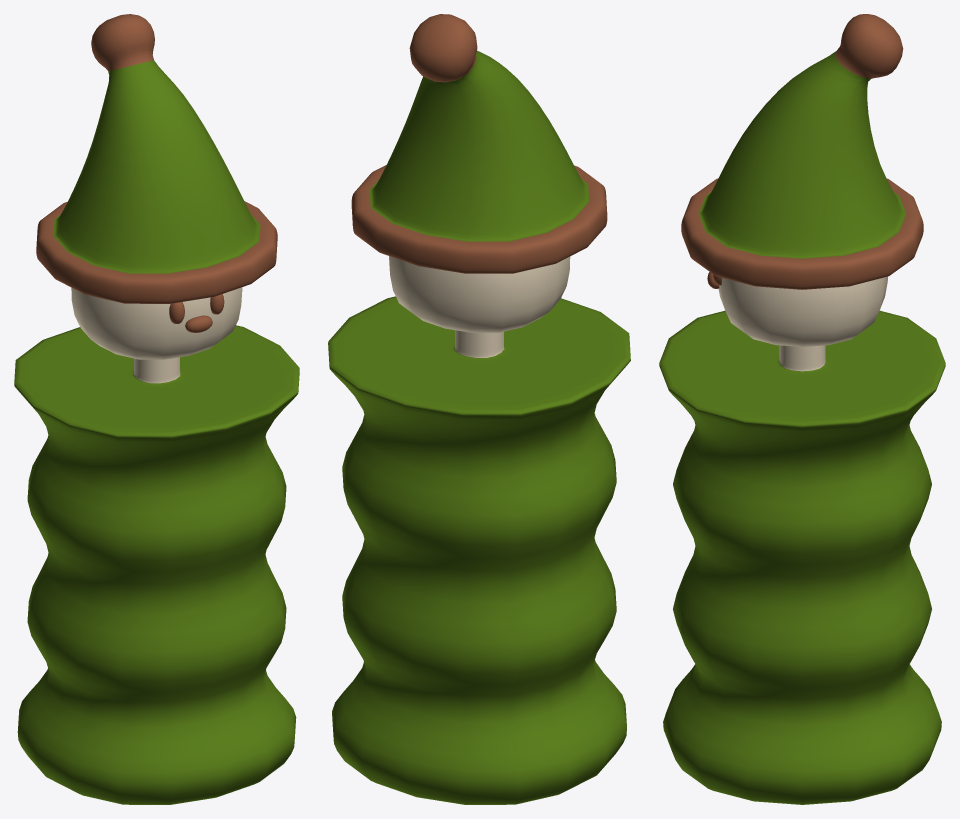
The model's file is JIB Herb.fbx.
3 views of the same model, side by side, from view 1: azimuth 30°, elevation 25°; view 2: azimuth 150°, elevation 25°; view 3: azimuth 270°, elevation 25° (orthographic). The views are drawn at different scales.
Parts seen in each view (by area): view 1: polySurface407; view 2: polySurface407; view 3: polySurface407.
Boxes of the visible parts, x1,y1,x2,y2 form: polySurface407: [14, 14, 299, 804]; polySurface407: [328, 14, 630, 804]; polySurface407: [659, 14, 945, 804].
Bounding box in the file's own units: 12.49 × 35.04 × 12.24.
